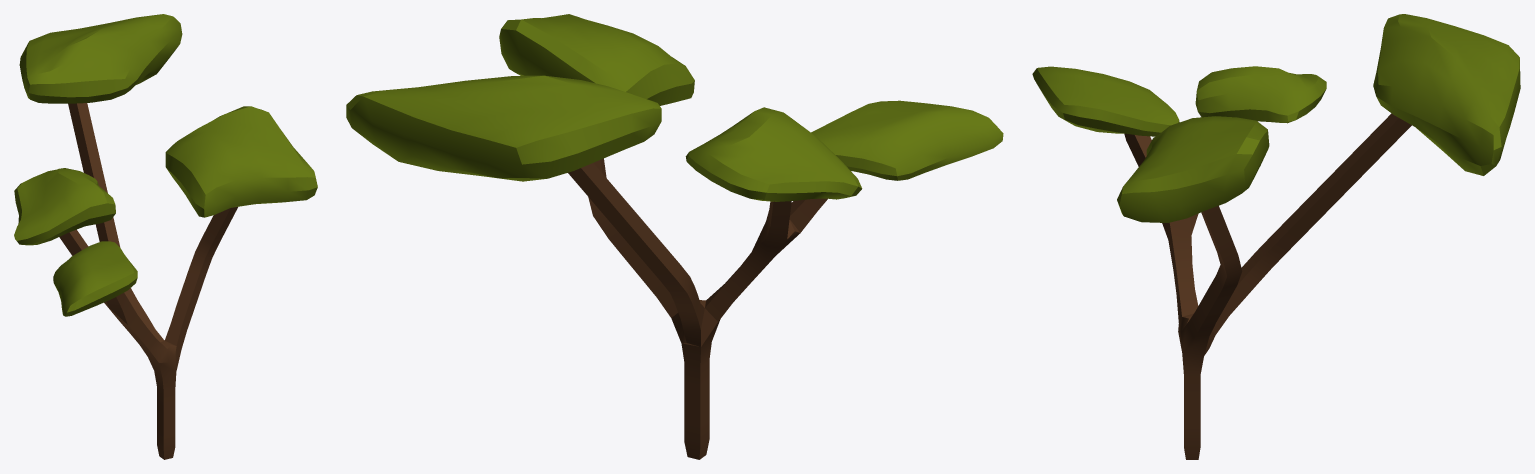
Rendered from Arbol.fbx.
The picture shows the model from 3 angles, left to right: view 1: azimuth 30°, elevation 25°; view 2: azimuth 150°, elevation 25°; view 3: azimuth 270°, elevation 25°; orthographic projection. The views are drawn at different scales.
Parts seen in each view (by area): view 1: Cube; view 2: Cube; view 3: Cube.
Boxes of the visible parts, left/top/right/bottom form: Cube: left=14, top=14, right=317, bottom=459; Cube: left=346, top=14, right=1003, bottom=459; Cube: left=1032, top=14, right=1520, bottom=459.
Bounding box in the file's own units: 855 × 944 × 972.
